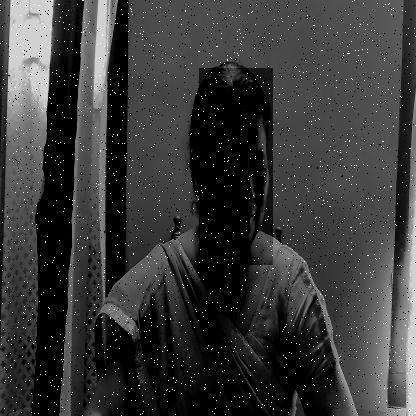Distracted: (199, 68, 273, 265)
